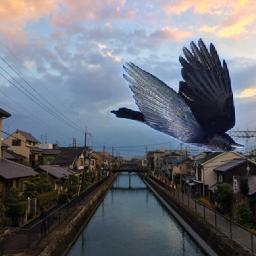Crow: (111, 38, 246, 152)
